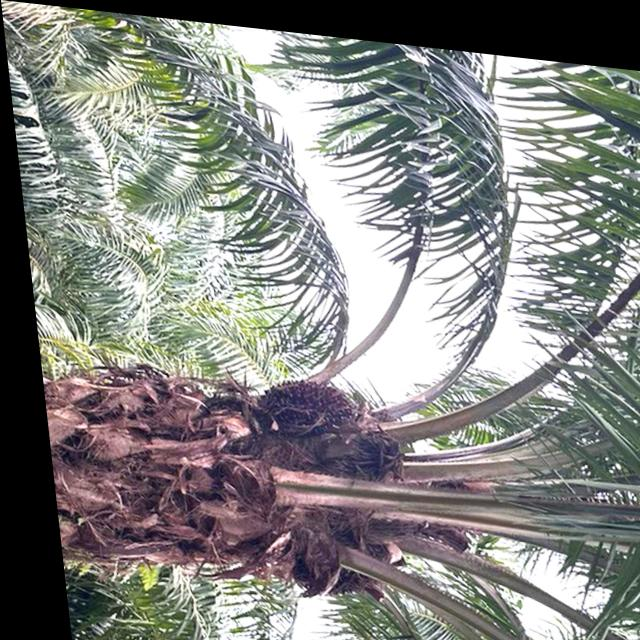ripe: (241, 357, 363, 442)
